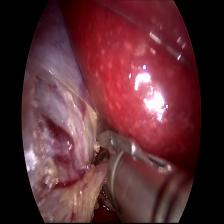Clipper: (90, 125, 156, 224)
